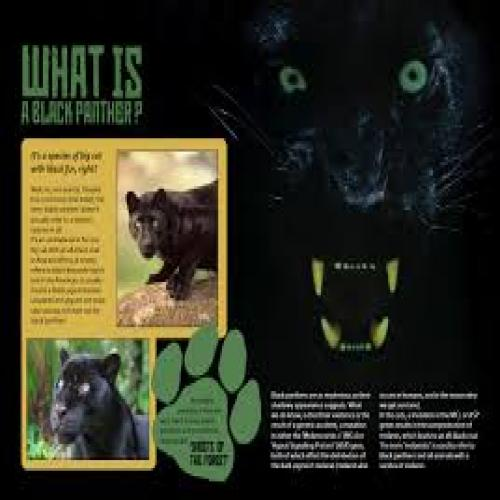panther-endangered: (190, 0, 492, 356), (122, 180, 227, 300), (48, 346, 147, 464)
